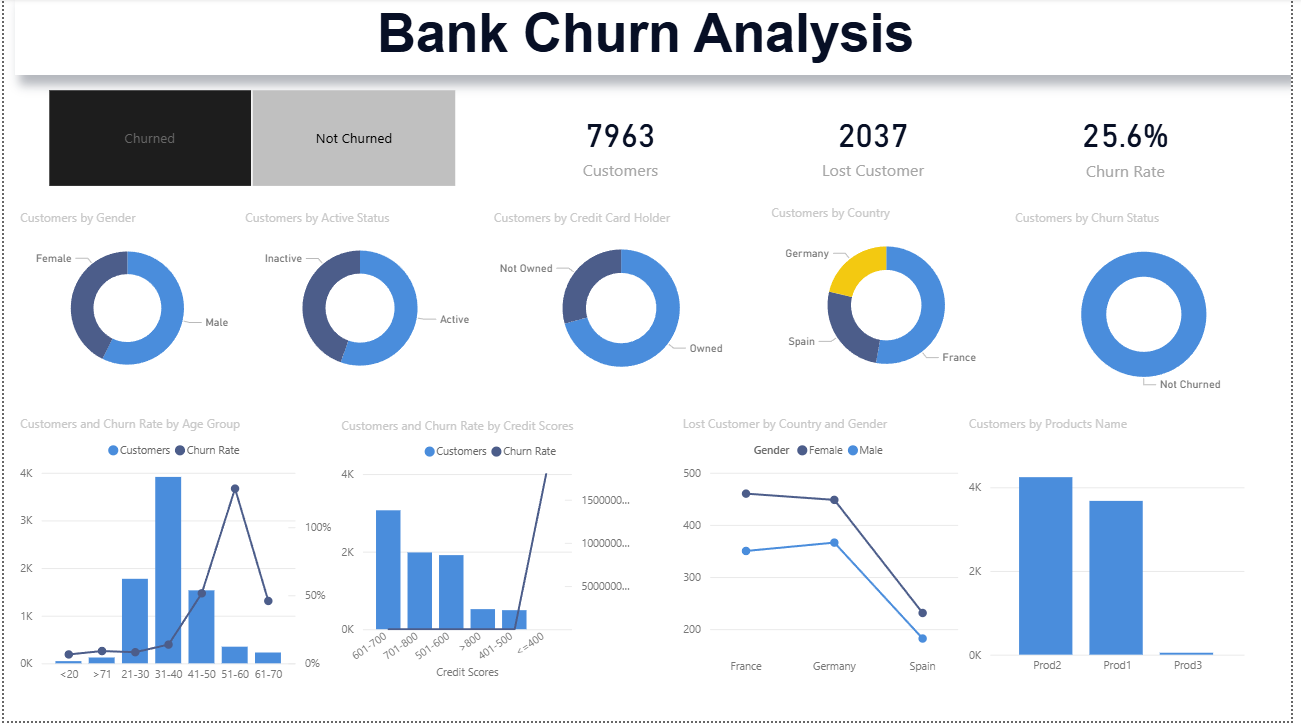

What the dashboard file says about the page in this screenshot:
{"tool":"powerbi","page":{"name":"Bank Churn Analysis","canvas":[1280,720],"ordinal":0},"visuals":[{"type":"card","fields":{"Values":["Calculated Measures.Customers"]},"box":[495.4,85.1,237.4,120.8],"z":0},{"type":"card","fields":{"Values":["Calculated Measures.Churned Customer"]},"box":[746.5,85.1,237.4,120.8],"z":1000},{"type":"card","fields":{"Values":["Calculated Measures.Churn Rate"]},"box":[997.6,89.2,237.4,112.5],"z":2000},{"type":"textbox","box":[11,0,1269.3,76.8],"z":3000},{"type":"donutChart","fields":{"Y":["Calculated Measures.Customers"],"Category":["Bank Customer Churn Prediction.Gender"]},"box":[11,209.9,223.7,181.1],"z":4000},{"type":"donutChart","fields":{"Y":["Calculated Measures.Customers"],"Category":["Bank Customer Churn Prediction.Active Status"]},"box":[234.6,209.9,238.8,181.1],"z":5000},{"type":"donutChart","fields":{"Y":["Calculated Measures.Customers"],"Category":["Bank Customer Churn Prediction.Credit Card Holder"]},"box":[483,209.9,263.5,181.1],"z":6000},{"type":"donutChart","fields":{"Y":["Calculated Measures.Customers"],"Category":["Bank Customer Churn Prediction.Country"]},"box":[758.8,205.8,238.8,185.2],"z":7000},{"type":"donutChart","fields":{"Y":["Calculated Measures.Customers"],"Category":["Bank Customer Churn Prediction.Churn"]},"box":[1001.7,209.9,266.2,193.5],"z":8000},{"type":"lineStackedColumnComboChart","fields":{"Category":["Age Group.Age Group"],"Y":["Calculated Measures.Customers"],"Y2":["Calculated Measures.Churn Rate"]},"box":[11,415.8,319.7,274.4],"z":9000},{"type":"lineStackedColumnComboChart","fields":{"Y":["Calculated Measures.Customers"],"Y2":["Calculated Measures.Churn Rate"],"Category":["Credit Score Group.Credit Scores"]},"box":[330.7,417.2,310.1,264.8],"z":10000},{"type":"lineChart","fields":{"Category":["Bank Customer Churn Prediction.Country"],"Y":["Calculated Measures.Lost Customer"],"Series":["Bank Customer Churn Prediction.Gender"]},"box":[671,415.8,284,266.2],"z":11000},{"type":"columnChart","fields":{"Y":["Calculated Measures.Customers"],"Category":["Bank Customer Churn Prediction.Products Name"]},"box":[955.1,415.8,284,266.2],"z":12000},{"type":"slicer","fields":{"Values":["Bank Customer Churn Prediction.Churn Status"]},"box":[19.2,85.1,454.2,109.8],"z":13000}]}

Visuals, with their boxes in screenshot pixels (x1, y1, x2, y2), scaled from the page's 1280x720 canvas onto the 1301x723 screenshot:
card - Calculated Measures.Customers: Rect(504, 85, 745, 207)
card - Calculated Measures.Churned Customer: Rect(759, 85, 1000, 207)
card - Calculated Measures.Churn Rate: Rect(1014, 90, 1255, 203)
textbox: Rect(11, 0, 1300, 77)
donutChart - Calculated Measures.Customers x Bank Customer Churn Prediction.Gender: Rect(11, 211, 239, 393)
donutChart - Calculated Measures.Customers x Bank Customer Churn Prediction.Active Status: Rect(238, 211, 481, 393)
donutChart - Calculated Measures.Customers x Bank Customer Churn Prediction.Credit Card Holder: Rect(491, 211, 759, 393)
donutChart - Calculated Measures.Customers x Bank Customer Churn Prediction.Country: Rect(771, 207, 1014, 393)
donutChart - Calculated Measures.Customers x Bank Customer Churn Prediction.Churn: Rect(1018, 211, 1289, 405)
lineStackedColumnComboChart - Age Group.Age Group x Calculated Measures.Customers: Rect(11, 418, 336, 693)
lineStackedColumnComboChart - Calculated Measures.Customers x Calculated Measures.Churn Rate: Rect(336, 419, 651, 685)
lineChart - Bank Customer Churn Prediction.Country x Calculated Measures.Lost Customer: Rect(682, 418, 971, 685)
columnChart - Calculated Measures.Customers x Bank Customer Churn Prediction.Products Name: Rect(971, 418, 1259, 685)
slicer - Bank Customer Churn Prediction.Churn Status: Rect(20, 85, 481, 196)
